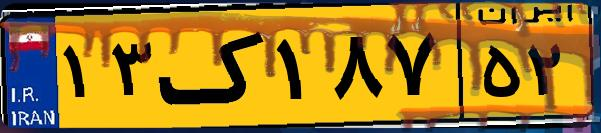1: (270, 28, 330, 110), (57, 26, 110, 100)
2: (525, 38, 570, 115)
3: (110, 28, 158, 98)
5: (475, 38, 525, 113)
7: (385, 28, 445, 110)
8: (330, 28, 385, 110)
ک: (158, 12, 270, 120)
